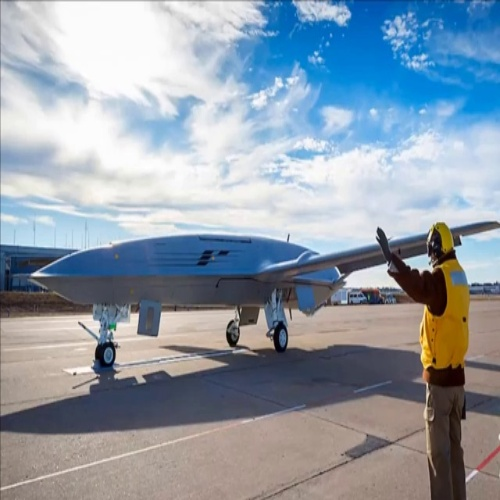uav: (9, 223, 372, 370)
